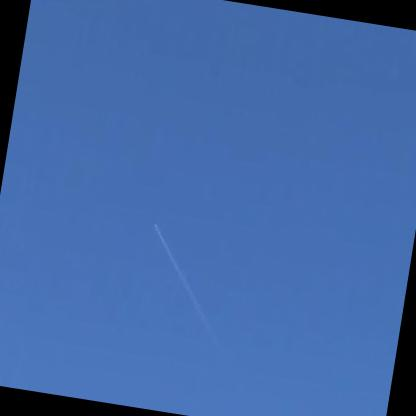plane: (150, 222, 159, 231)
